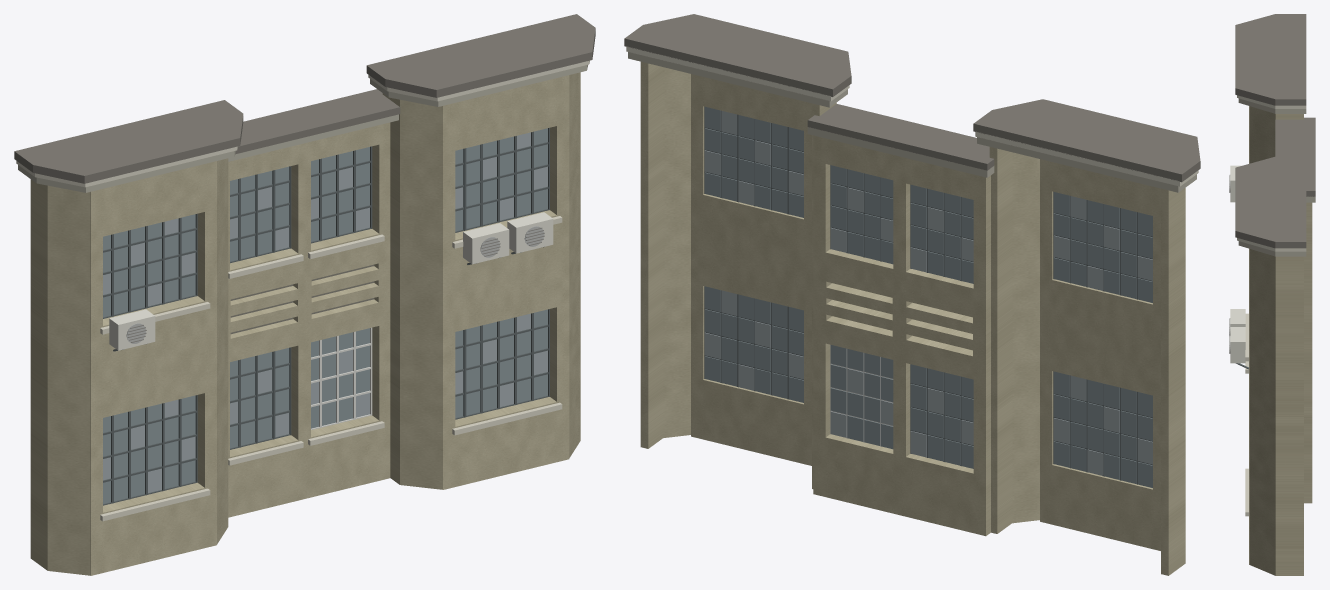
File: shaoxing-25-faceted-bays-far.glb
3 views of the same model, side by side, from view 1: azimuth 30°, elevation 25°; view 2: azimuth 150°, elevation 25°; view 3: azimuth 270°, elevation 25° (orthographic). The views are drawn at different scales.
Visible parts, largest first — view 1: 绍兴路25弄住宅双折角凸窗与横槽窗间墙; view 2: 绍兴路25弄住宅双折角凸窗与横槽窗间墙; view 3: 绍兴路25弄住宅双折角凸窗与横槽窗间墙.
Boxes of the visible parts, <box> form: 绍兴路25弄住宅双折角凸窗与横槽窗间墙: <box>14,14,595,575</box>; 绍兴路25弄住宅双折角凸窗与横槽窗间墙: <box>624,14,1200,575</box>; 绍兴路25弄住宅双折角凸窗与横槽窗间墙: <box>1229,14,1315,575</box>.
Size of the model in its own units: 9.68 by 6.74 by 1.55.
Materials: 12 (1 with a texture image).
